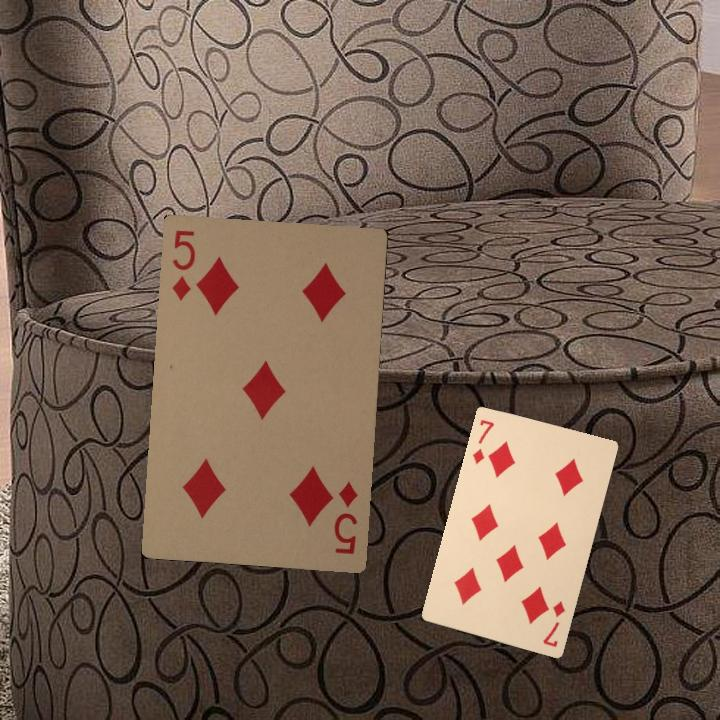5d: (329, 478, 360, 557), (167, 226, 198, 304)
7d: (538, 597, 567, 650), (468, 415, 497, 466)
